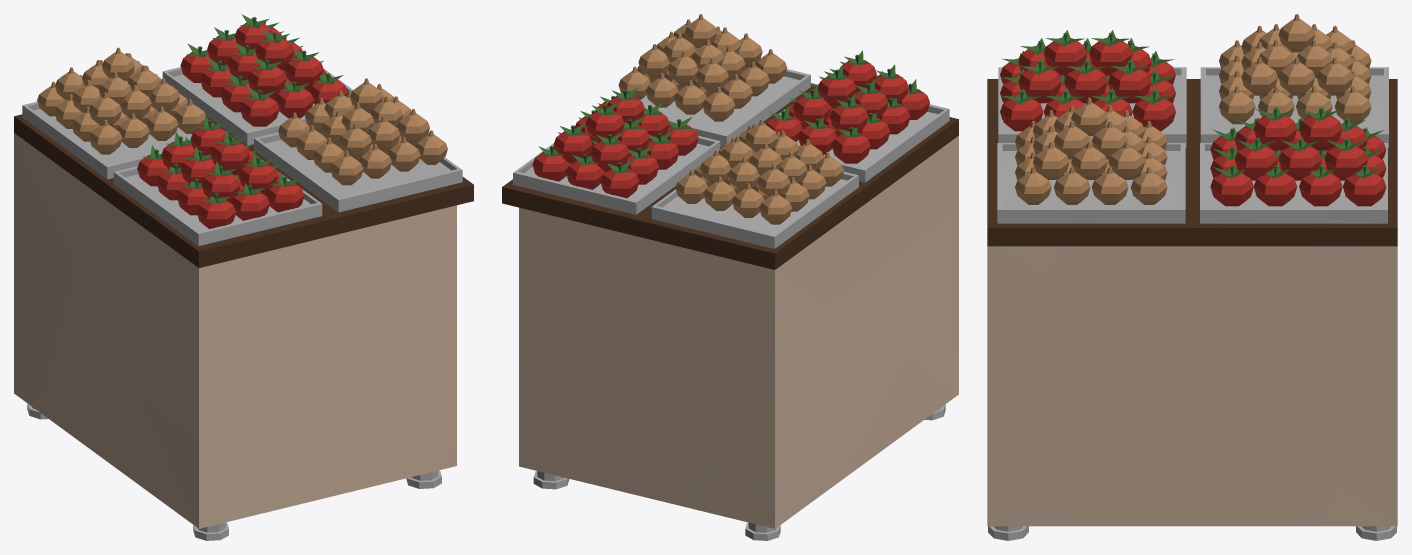
The model's file is SM_fruitShelveSmall_03.glb.
3 views of the same model, side by side, from view 1: azimuth 30°, elevation 25°; view 2: azimuth 150°, elevation 25°; view 3: azimuth 270°, elevation 25° (orthographic). The views are drawn at different scales.
Parts seen in each view (by area): view 1: SM_fruitShelveSmall_03; view 2: SM_fruitShelveSmall_03; view 3: SM_fruitShelveSmall_03.
Part boxes in pixels (bbox=[...]): SM_fruitShelveSmall_03: bbox=[14, 14, 473, 540]; SM_fruitShelveSmall_03: bbox=[502, 14, 958, 540]; SM_fruitShelveSmall_03: bbox=[987, 14, 1397, 540].
Bounding box in the file's own units: 0.8576 × 1.14 × 1.
Materials: 1 (1 with a texture image).
